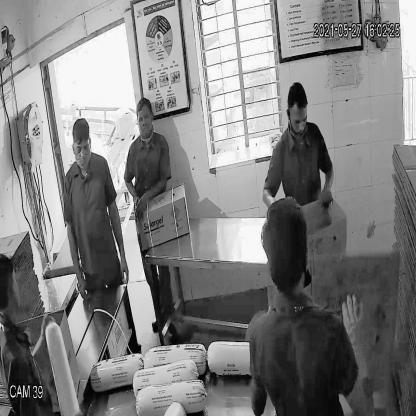no_goggles: (282, 106, 310, 132), (70, 136, 94, 159)
